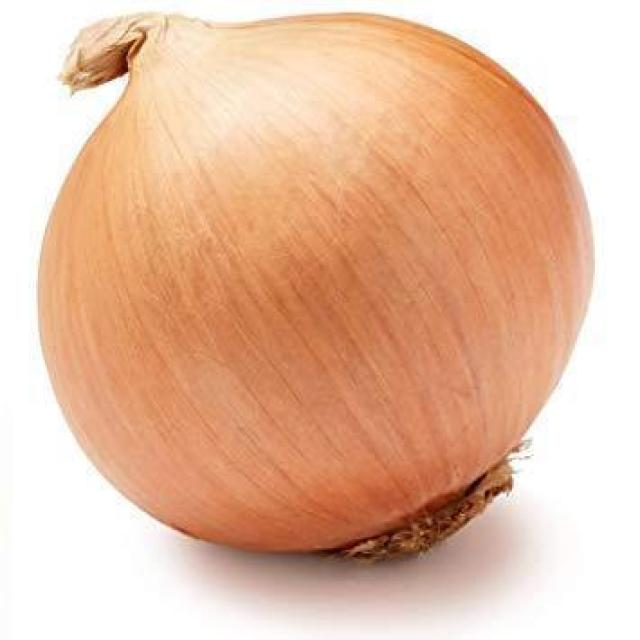Onion: (38, 11, 595, 568)
